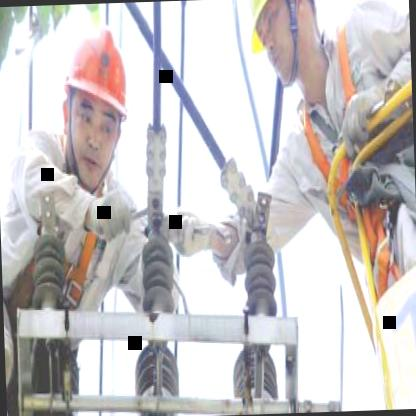helmet: (51, 9, 140, 188), (237, 0, 329, 95)
